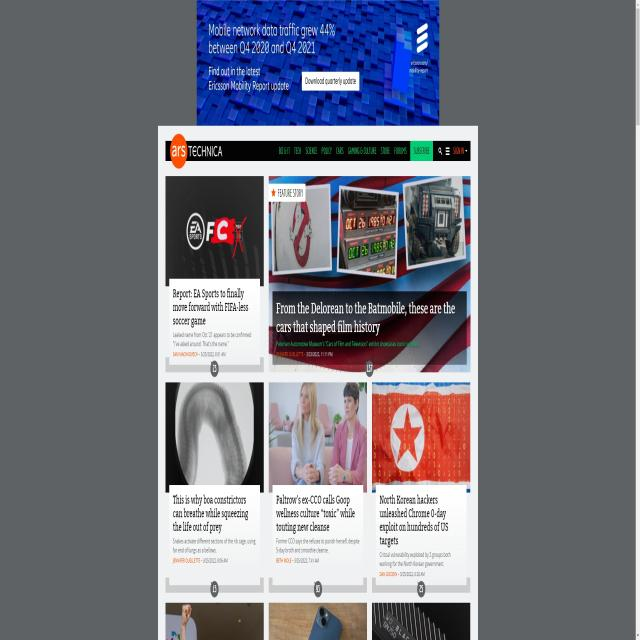menu-bar: (275, 141, 434, 161)
